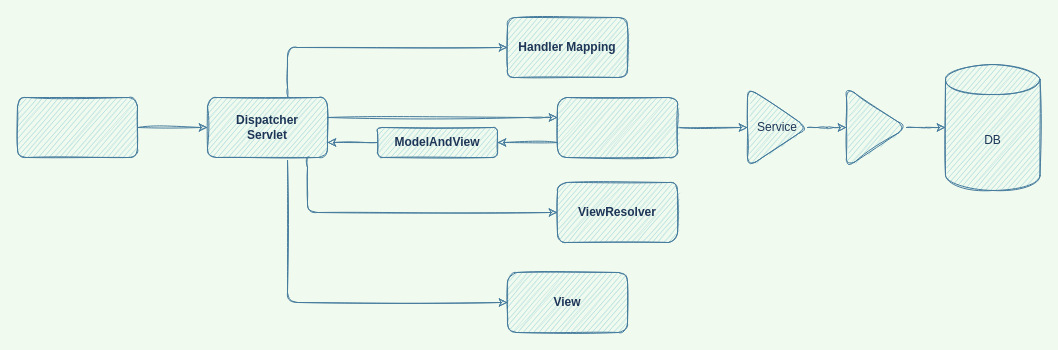
Image size: 1058x350. Some labels were removed from this diagram. The centre of each missing label's shape, as x and y in pixels:
"Client" goes at point 77,127.
"Controller" goes at point 617,127.
"DAO" goes at point 876,127.
